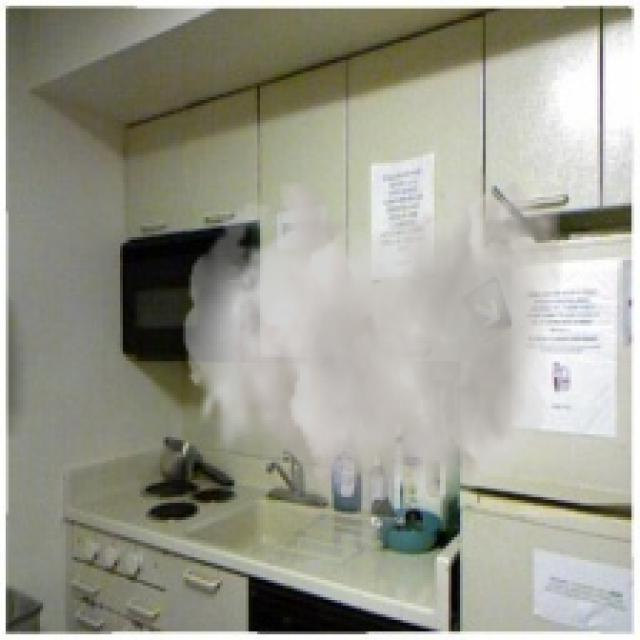Smoke: (183, 165, 566, 558)
